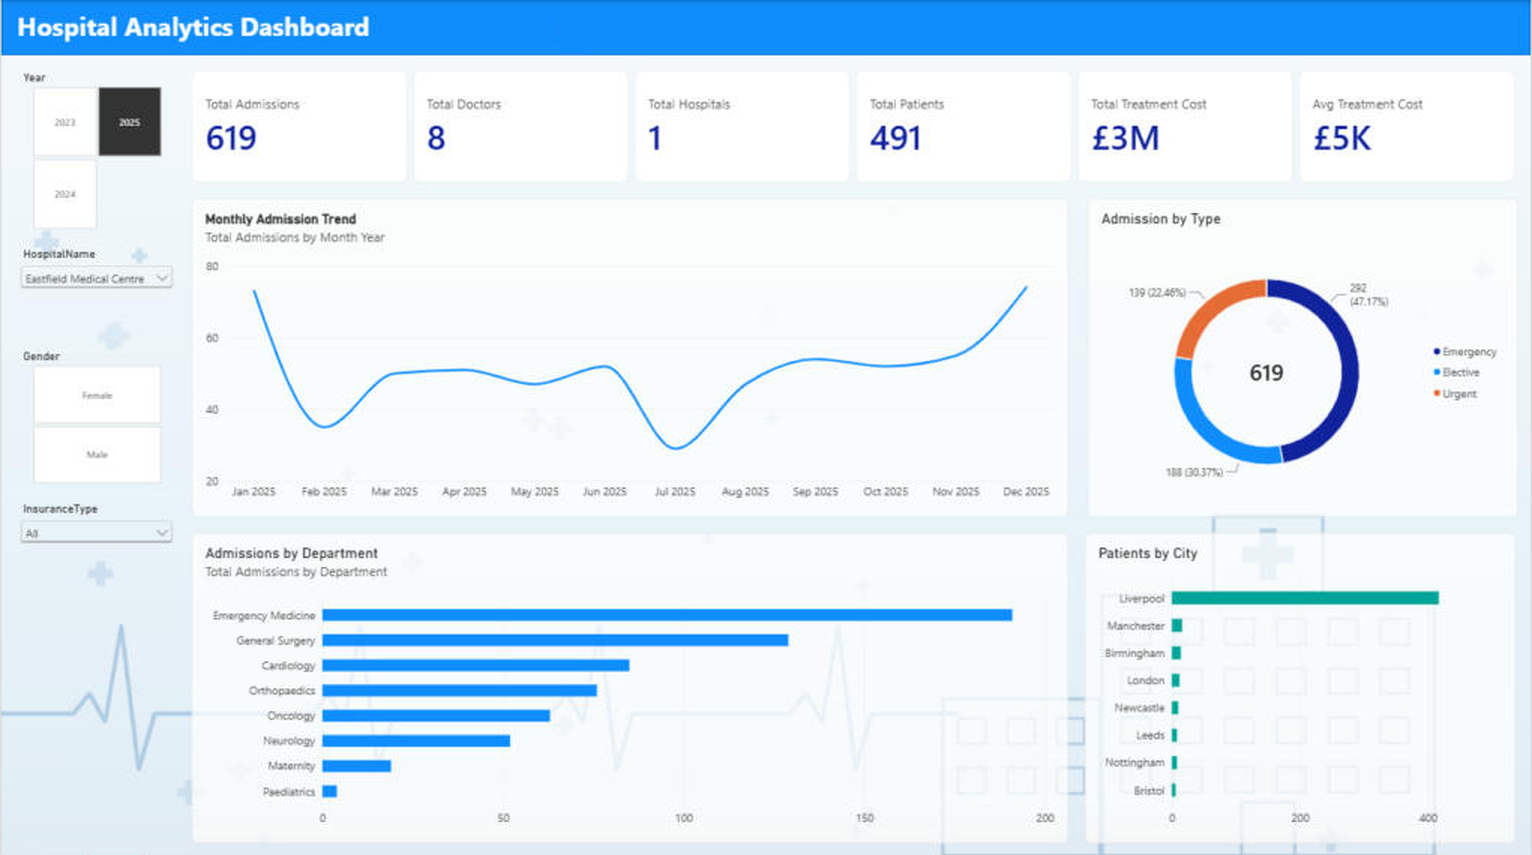

Layout of this report page (visuals, bound fields, positions):
{"tool":"powerbi","page":{"name":"Page 1","canvas":[1920,1080],"ordinal":0},"visuals":[{"type":"cardVisual","fields":{"Data":["_Measures.Total Admissions","_Measures.Total Doctors","_Measures.Total Hospitals","_Measures.Total Patients","_Measures.Total Treatment Cost","_Measures.Avg Treatment Cost"]},"box":[240,90,1660,140],"z":0},{"type":"shape","box":[0,0,1920,70],"z":1},{"type":"textbox","box":[20,15,700,40],"z":2},{"type":"lineChart","title":"Monthly Admission Trend","fields":{"Category":["DateTable.Month Year"],"Y":["_Measures.Total Admissions"]},"box":[240,250,1100,400],"z":3},{"type":"donutChart","title":"Admission by Type","fields":{"Category":["Admissions.AdmissionType"],"Y":["_Measures.Total Admissions"]},"box":[1363.5,250.6,540,400],"z":4},{"type":"clusteredBarChart","title":"Admissions by Department","fields":{"Category":["Departments.Department"],"Y":["_Measures.Total Admissions"]},"box":[240,670,1100,390],"z":5},{"type":"clusteredBarChart","title":"Patients by City","fields":{"Category":["Patients.City"],"Y":["_Measures.Total Patients"]},"box":[1360,670,540,390],"z":6},{"type":"slicer","fields":{"Values":["DateTable.Year"]},"box":[20,90,200,200],"z":7},{"type":"slicer","fields":{"Values":["Hospitals.HospitalName"]},"box":[20,310,200,110],"z":8},{"type":"slicer","fields":{"Values":["Patients.Gender"]},"box":[20,440,200,170],"z":9},{"type":"slicer","fields":{"Values":["Admissions.InsuranceType"]},"box":[20,630,200,110],"z":10}]}

Visuals, with their boxes in screenshot pixels (x1, y1, x2, y2), scaled from the page's 1920x1080 canvas onto the 1532x855 screenshot:
cardVisual - _Measures.Total Admissions x _Measures.Total Doctors: pyautogui.locateOnScreen(192, 71, 1516, 182)
shape: pyautogui.locateOnScreen(0, 0, 1531, 55)
textbox: pyautogui.locateOnScreen(16, 12, 574, 44)
"Monthly Admission Trend" lineChart: pyautogui.locateOnScreen(192, 198, 1069, 515)
"Admission by Type" donutChart: pyautogui.locateOnScreen(1088, 198, 1519, 515)
"Admissions by Department" clusteredBarChart: pyautogui.locateOnScreen(192, 530, 1069, 839)
"Patients by City" clusteredBarChart: pyautogui.locateOnScreen(1085, 530, 1516, 839)
slicer - DateTable.Year: pyautogui.locateOnScreen(16, 71, 176, 230)
slicer - Hospitals.HospitalName: pyautogui.locateOnScreen(16, 245, 176, 332)
slicer - Patients.Gender: pyautogui.locateOnScreen(16, 348, 176, 483)
slicer - Admissions.InsuranceType: pyautogui.locateOnScreen(16, 499, 176, 586)
